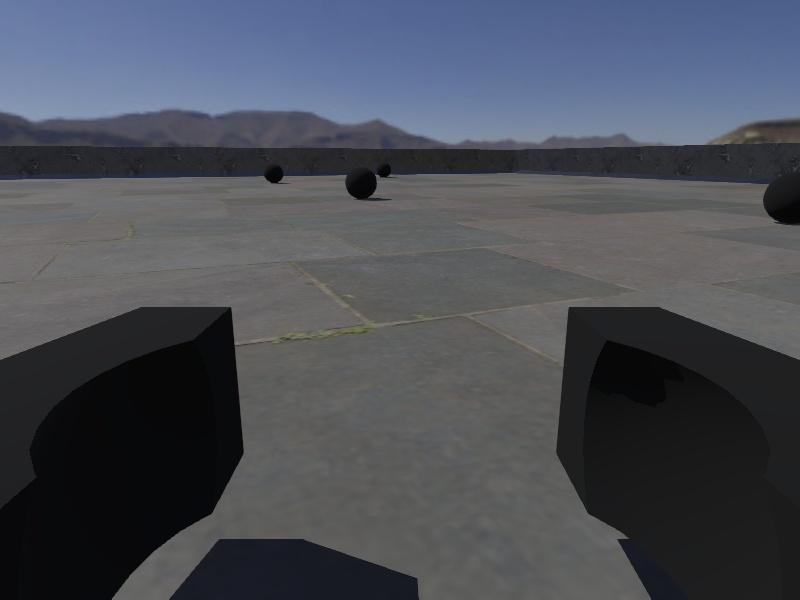black ball: (345, 168, 378, 200), (263, 162, 283, 184), (376, 161, 393, 178)
